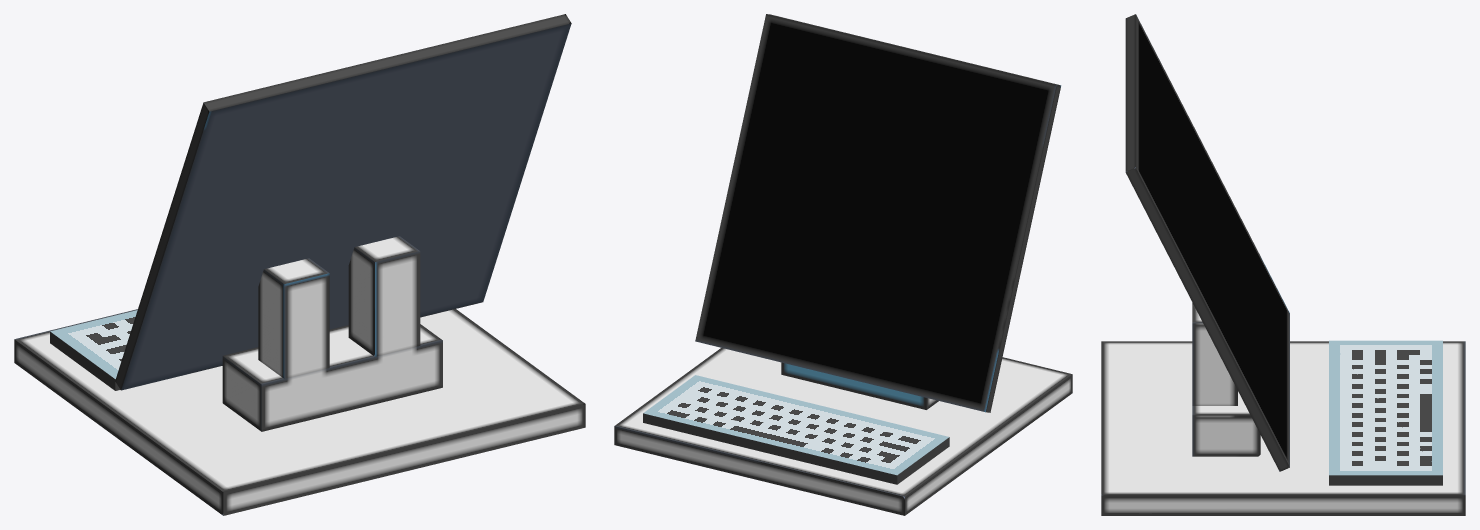
Rendered from monitor_screen.obj.
The picture shows the model from 3 angles, left to right: view 1: azimuth 30°, elevation 25°; view 2: azimuth 150°, elevation 25°; view 3: azimuth 270°, elevation 25°; orthographic projection. The views are drawn at different scales.
Visible parts, largest first — view 1: screen, base, cube, keyboard; view 2: screen, base, keyboard, cube; view 3: base, screen, keyboard, cube.
Part boxes in pixels (bbox=[...]): screen: bbox=[115, 14, 571, 390]; base: bbox=[14, 309, 585, 515]; cube: bbox=[222, 236, 442, 431]; keyboard: bbox=[50, 310, 137, 390]; screen: bbox=[695, 14, 1061, 412]; base: bbox=[614, 348, 1072, 515]; keyboard: bbox=[643, 375, 949, 484]; cube: bbox=[781, 362, 938, 409]; base: bbox=[1101, 341, 1465, 515]; screen: bbox=[1125, 14, 1289, 471]; keyboard: bbox=[1329, 340, 1442, 485]; cube: bbox=[1192, 302, 1260, 456].
Bounding box in the file's own units: 1 × 1.05 × 1.
